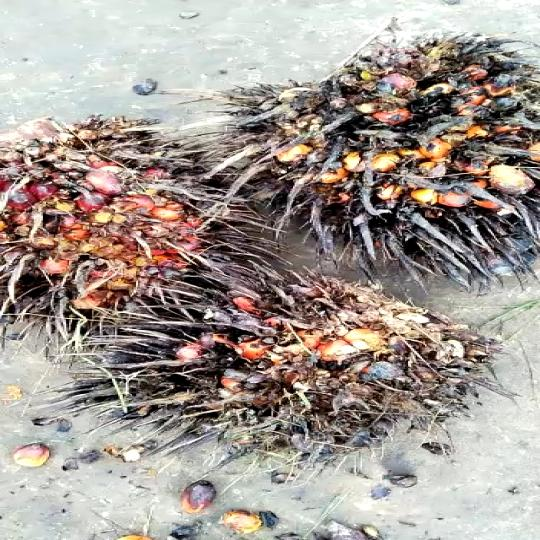terlalu masak: (188, 31, 540, 269), (46, 282, 518, 439), (0, 114, 244, 321)
